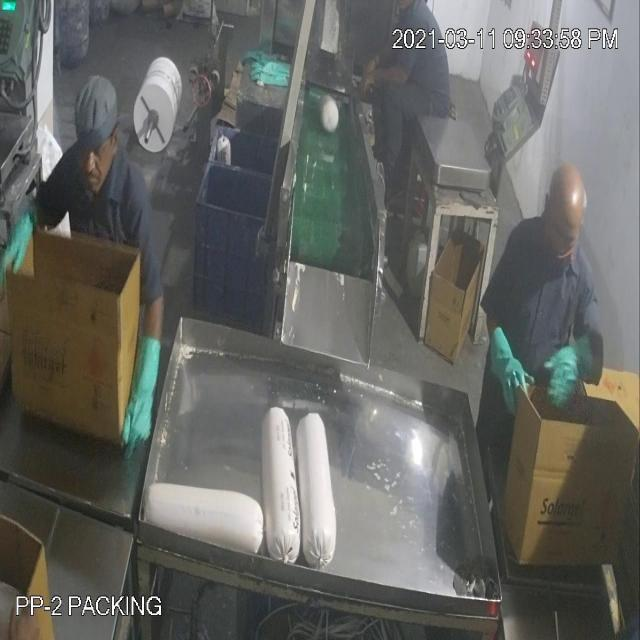No_Gloves: (348, 59, 411, 105)
